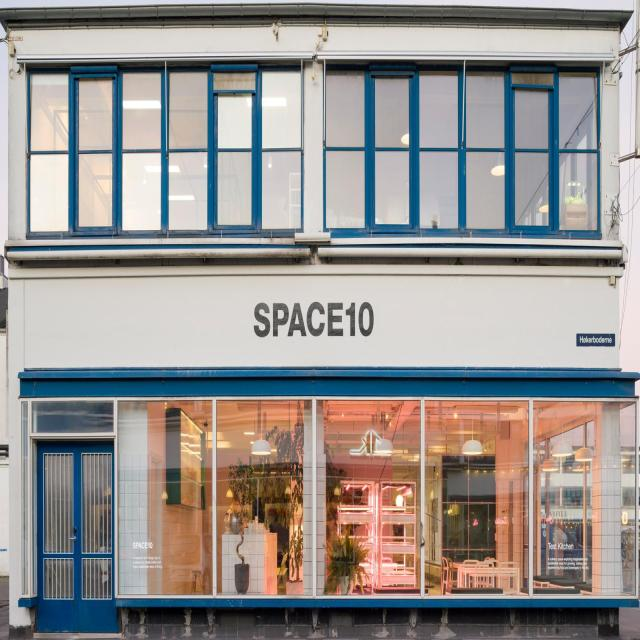door: (36, 443, 116, 636)
windows: (115, 403, 601, 596), (324, 61, 600, 237), (25, 64, 302, 236)
